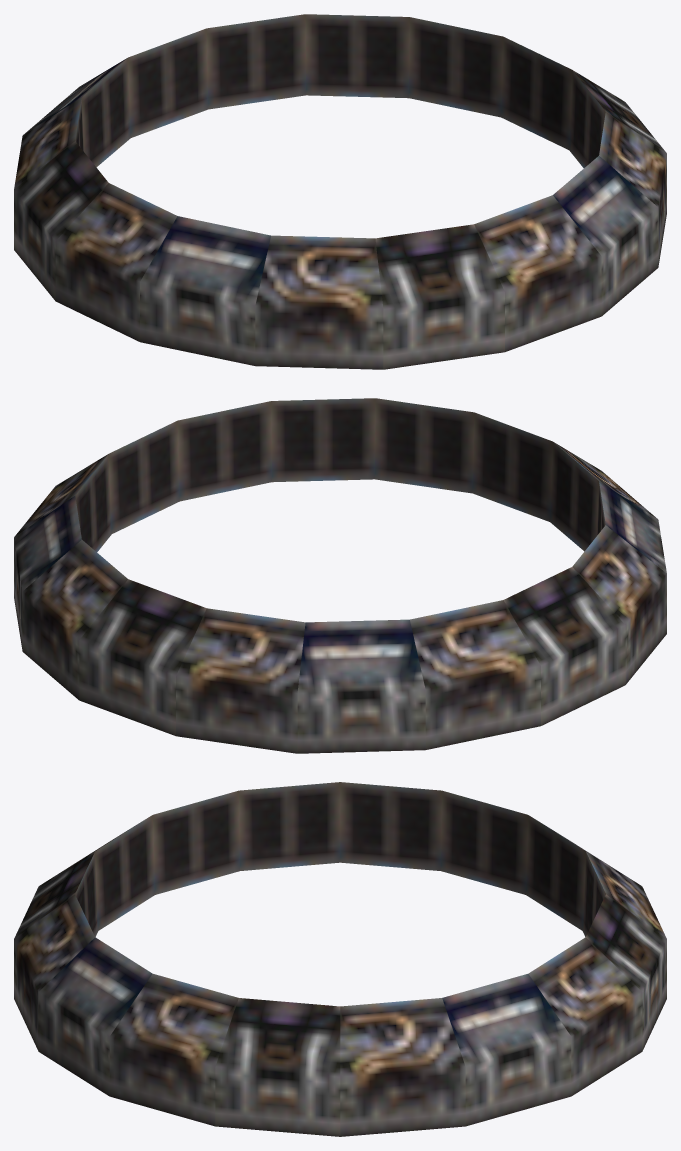
The model's file is prop-066.glb.
3 views of the same model, one above another, from view 1: azimuth 30°, elevation 25°; view 2: azimuth 150°, elevation 25°; view 3: azimuth 270°, elevation 25° (orthographic).
Parts seen in each view (by area): view 1: root; view 2: root; view 3: root.
Boxes of the visible parts, left/top/right/bottom form: root: left=14, top=14, right=666, bottom=369; root: left=14, top=398, right=666, bottom=753; root: left=14, top=782, right=666, bottom=1136.
Bounding box in the file's own units: 4.35 × 0.7695 × 4.35.
Materials: 1 (1 with a texture image).
